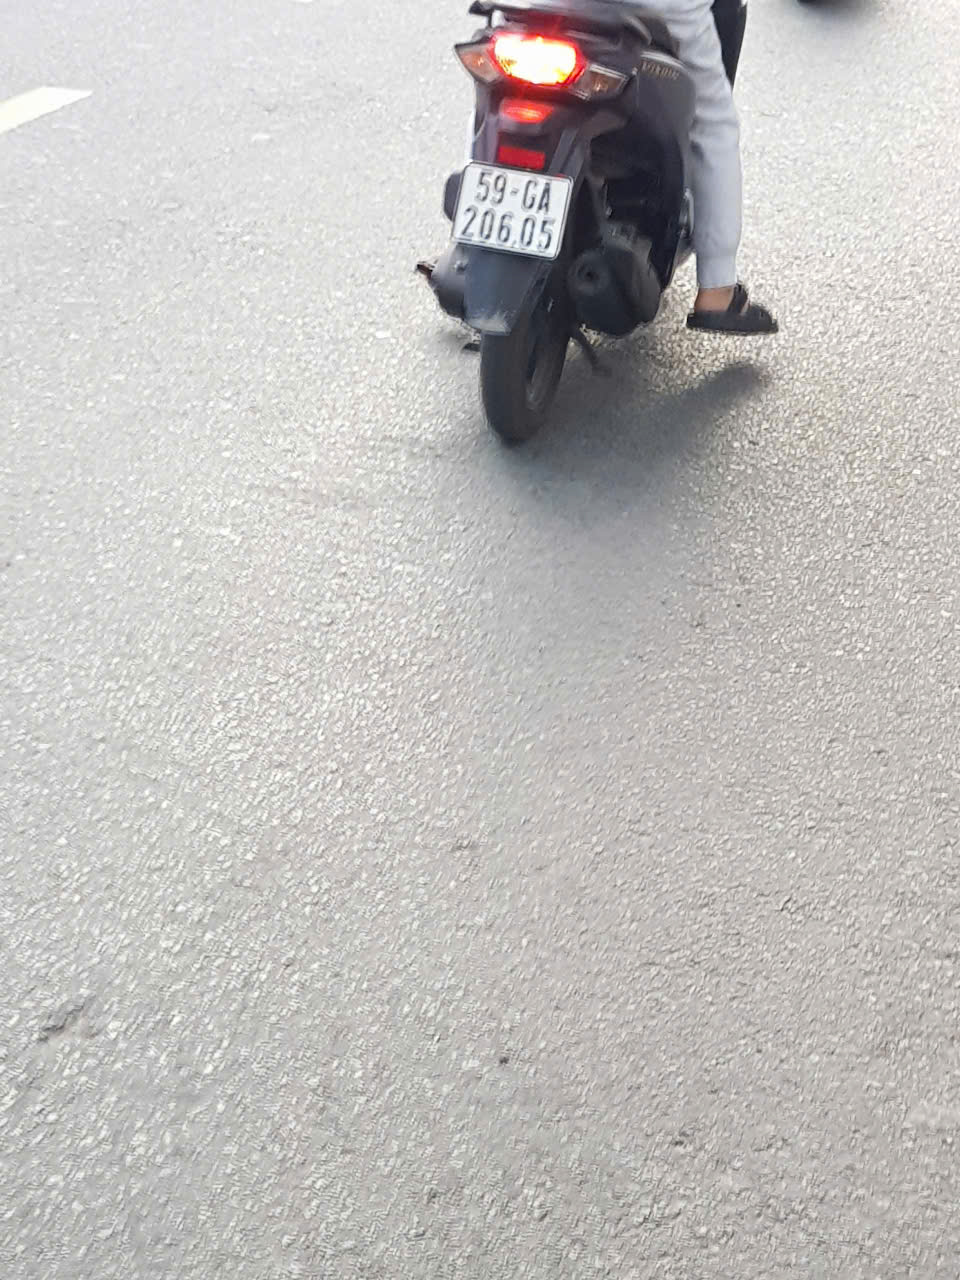bien_so: (452, 163, 571, 258)
